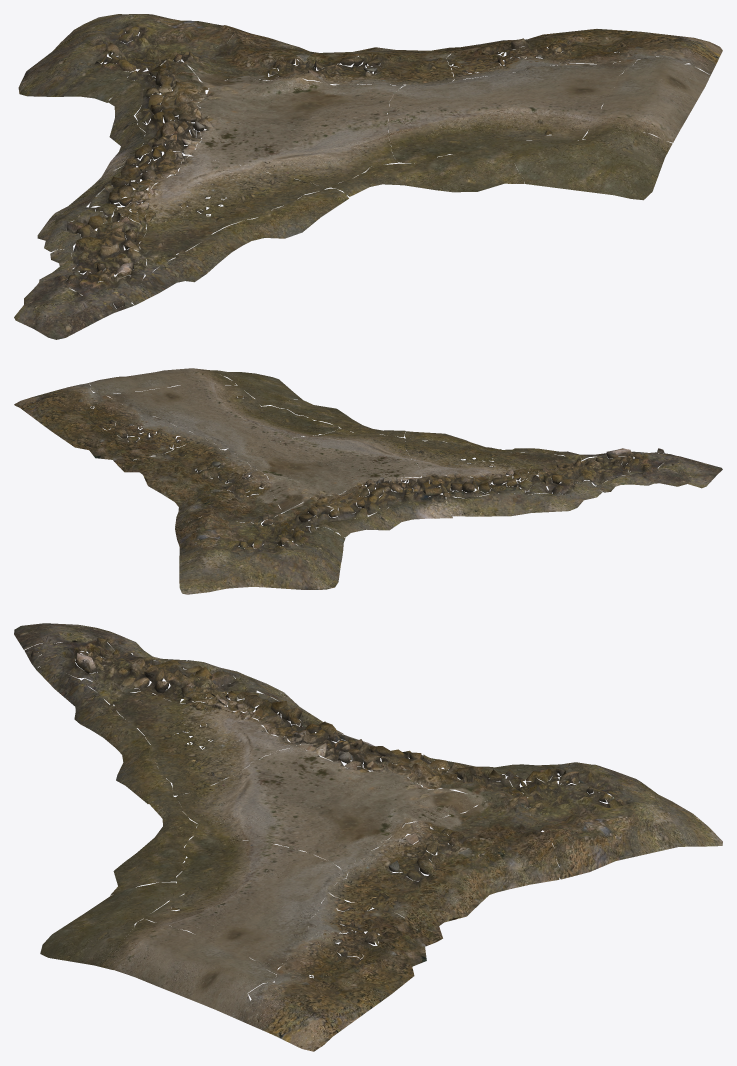
The model's file is WorldRocks.fbx.
3 views of the same model, one above another, from view 1: azimuth 30°, elevation 25°; view 2: azimuth 150°, elevation 25°; view 3: azimuth 270°, elevation 25° (orthographic). The views are drawn at different scales.
Parts seen in each view (by area): view 1: WorldRocks; view 2: WorldRocks; view 3: WorldRocks.
Boxes of the visible parts, x1,y1,x2,y2 form: WorldRocks: [14, 14, 722, 339]; WorldRocks: [14, 368, 722, 594]; WorldRocks: [14, 623, 722, 1051].
Bounding box in the file's own units: 36.43 × 2 × 26.04.
1 material, 1 textured.
